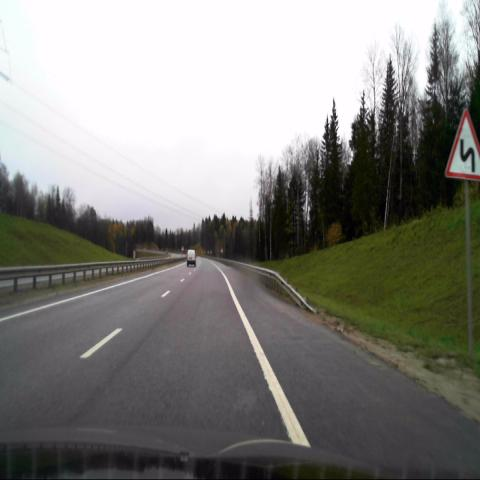1_12_2: (446, 109, 480, 182)
